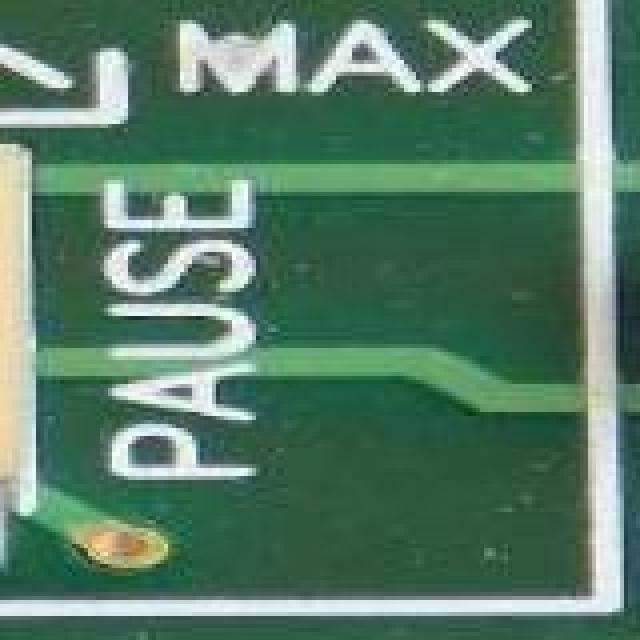potentiometer: (0, 120, 52, 556)
